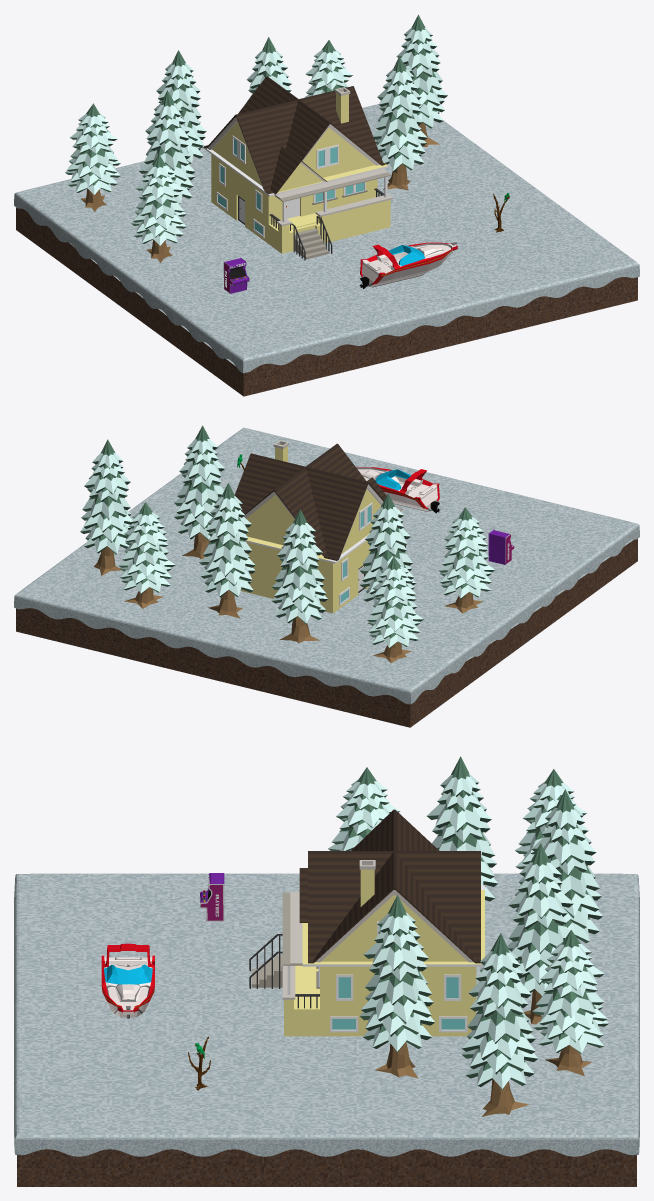
3 renders of one model, top to bottom at view 1: azimuth 30°, elevation 25°; view 2: azimuth 150°, elevation 25°; view 3: azimuth 270°, elevation 25°, orthographic. The views are drawn at different scales.
Visible parts, largest first — view 1: Cube.003, Cube.1555, VEHICLES_BOAT, OBJRANDOM_ARCADE; view 2: Cube.003, Cube.1555, VEHICLES_BOAT, OBJRANDOM_ARCADE; view 3: Cube.003, Cube.1555, VEHICLES_BOAT, OBJRANDOM_ARCADE.
Boxes of the visible parts, x1=… form: Cube.003: x1=14, y1=14, x2=639, y2=396; Cube.1555: x1=202, y1=76, x2=393, y2=260; VEHICLES_BOAT: x1=359, y1=242, x2=457, y2=288; OBJRANDOM_ARCADE: x1=223, y1=257, x2=249, y2=293; Cube.003: x1=14, y1=425, x2=639, y2=727; Cube.1555: x1=235, y1=440, x2=405, y2=613; VEHICLES_BOAT: x1=356, y1=467, x2=440, y2=513; OBJRANDOM_ARCADE: x1=488, y1=529, x2=514, y2=564; Cube.003: x1=14, y1=756, x2=639, y2=1186; Cube.1555: x1=249, y1=809, x2=484, y2=1036; VEHICLES_BOAT: x1=101, y1=943, x2=154, y2=1018; OBJRANDOM_ARCADE: x1=200, y1=873, x2=224, y2=921.
Bounding box in the file's own units: 4040 × 1708 × 4040.
39 materials, 3 textured.
